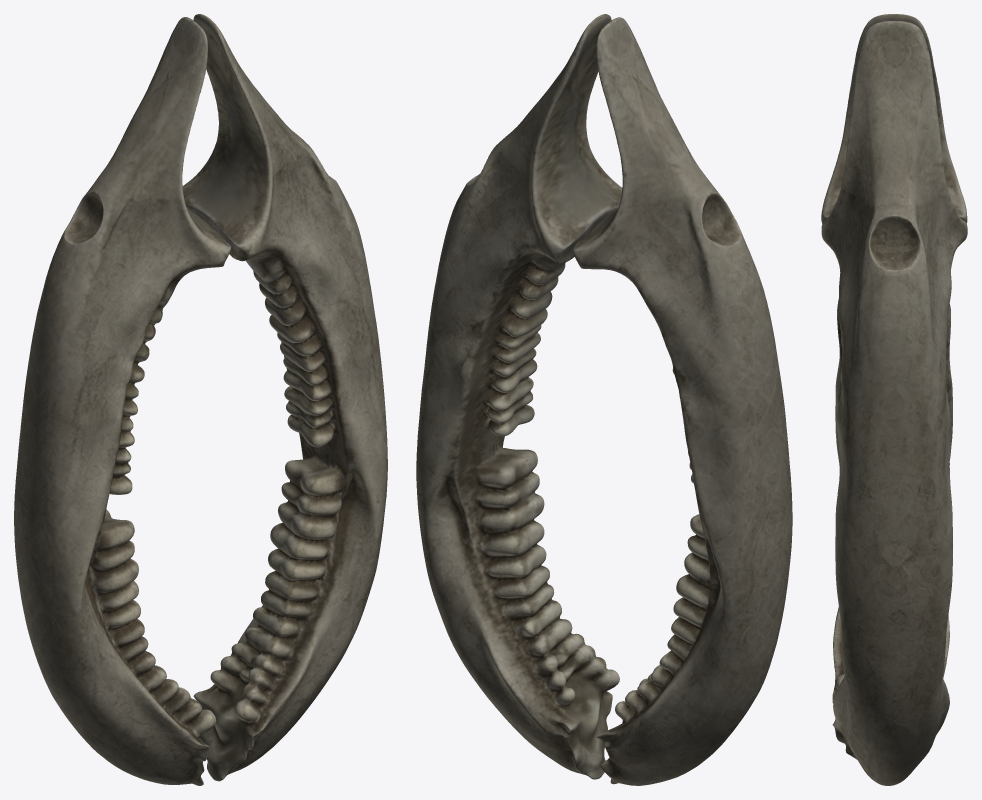
3 views of the same model, side by side, from view 1: azimuth 30°, elevation 25°; view 2: azimuth 150°, elevation 25°; view 3: azimuth 270°, elevation 25° (orthographic).
Visible parts, largest first — view 1: mesh_node; view 2: mesh_node; view 3: mesh_node.
Boxes of the visible parts, x1,y1,x2,y2 form: mesh_node: [14, 14, 387, 785]; mesh_node: [416, 14, 792, 785]; mesh_node: [821, 14, 967, 785].
Size of the model in its own units: 0.914 by 1.9 by 0.3334.
1 material, 1 textured.
